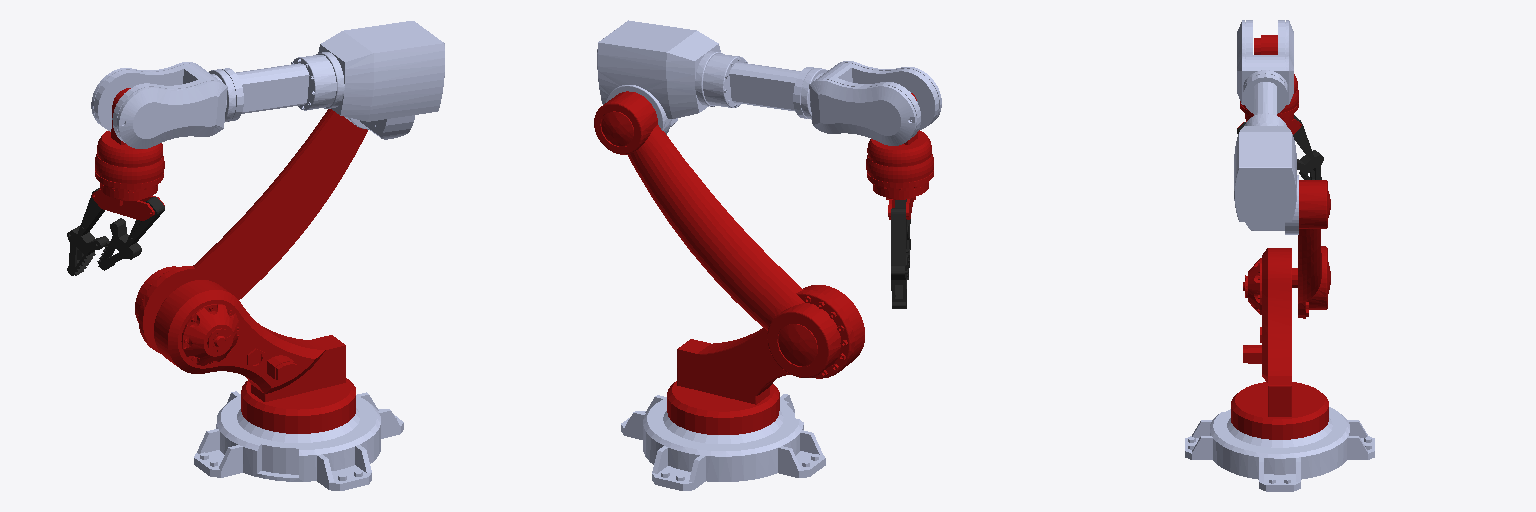
The robot description file, URDF, robot "robotic_arm":
<?xml version="1.0" ?>
<!-- =================================================================================== -->
<!-- |    This document was autogenerated by xacro from [local-path]/ros2_ws/src/robotic_arm/description/urdf/robotic_arm.urdf.xacro | -->
<!-- |    EDITING THIS FILE BY HAND IS NOT RECOMMENDED                                 | -->
<!-- =================================================================================== -->
<!-- This URDF was automatically created by SolidWorks to URDF Exporter! Originally created by [author] ([email redacted]) 
     Commit Version: 1.6.0-4-g7f85cfe  Build Version: 1.6.7995.38578
     For more information, please see http://wiki.ros.org/sw_urdf_exporter -->
<robot name="robotic_arm">

  <link name = "world"/>

  <joint name = "base_joint" type = "fixed">
    <parent link = "world"/>
    <child link = "base_link"/>
    <origin rpy = "0 0 0" xyz = "0.0 0.0 0.0"/>
  </joint>

  <link name="base_link">
    <inertial>
      <origin rpy="0 0 0" xyz="0.073069 0.13264 0.2225"/>
      <mass value="1.5086"/>
      <inertia ixx="0.0043061" ixy="-2.3844E-07" ixz="-7.3077E-05" iyy="0.0080514" iyz="2.3844E-07" izz="0.0043061"/>
    </inertial>
    <visual>
      <origin rpy="0 0 0" xyz="0 0 0"/>
      <geometry>
        <mesh filename="package://robotic_arm/meshes/base_link.STL"/>
      </geometry>
      <material name="">
        <color rgba="0.79216 0.81961 0.93333 1"/>
      </material>
    </visual>
    <collision>
      <origin rpy="0 0 0" xyz="0 0 0"/>
      <geometry>
        <mesh filename="package://robotic_arm/meshes/base_link.STL"/>
      </geometry>
    </collision>
  </link>
  <link name="link_1">
    <inertial>
      <origin rpy="0 0 0" xyz="-0.057487 0.078405 0.0039341"/>
      <mass value="1.3333"/>
      <inertia ixx="0.0050949" ixy="0.0043173" ixz="0.00028916" iyy="0.00711" iyz="-0.00025095" izz="0.010704"/>
    </inertial>
    <visual>
      <origin rpy="0 0 0" xyz="0 0 0"/>
      <geometry>
        <mesh filename="package://robotic_arm/meshes/link_1.STL"/>
      </geometry>
      <material name="">
        <color rgba="0.69412 0.098039 0.098039 1"/>
      </material>
    </visual>
    <collision>
      <origin rpy="0 0 0" xyz="0 0 0"/>
      <geometry>
        <mesh filename="package://robotic_arm/meshes/link_1.STL"/>
      </geometry>
    </collision>
  </link>
  <joint name="joint_1" type="revolute">
    <origin rpy="1.5708 0 0" xyz="0.072332 -0.22324 0.16099"/>
    <parent link="base_link"/>
    <child link="link_1"/>
    <axis xyz="0 1 0"/>
    <limit effort="300" lower="0" upper="3.142" velocity="3"/>
  </joint>
  <link name="link_2">
    <inertial>
      <origin rpy="0 0 0" xyz="-0.14941 0.034282 0.0094769"/>
      <mass value="1.0447"/>
      <inertia ixx="0.00068419" ixy="-1.9061E-05" ixz="0.00023629" iyy="0.019048" iyz="2.1777E-05" izz="0.018654"/>
    </inertial>
    <visual>
      <origin rpy="0 0 0" xyz="0 0 0"/>
      <geometry>
        <mesh filename="package://robotic_arm/meshes/link_2.STL"/>
      </geometry>
      <material name="">
        <color rgba="0.69412 0.098039 0.098039 1"/>
      </material>
    </visual>
    <collision>
      <origin rpy="0 0 0" xyz="0 0 0"/>
      <geometry>
        <mesh filename="package://robotic_arm/meshes/link_2.STL"/>
      </geometry>
    </collision>
  </link>
  <joint name="joint_2" type="revolute">
    <origin rpy="-1.5708 0 -2.4026" xyz="-0.1461 0.15286 -0.0075"/>
    <parent link="link_1"/>
    <child link="link_2"/>
    <axis xyz="0 -1 0"/>
    <limit effort="200" lower="-1.57" upper="1.57" velocity="3"/>
  </joint>
  <link name="link_3">
    <inertial>
      <origin rpy="0 0 0" xyz="0.026725 -0.04057 -0.11374"/>
      <mass value="1.9528"/>
      <inertia ixx="0.010186" ixy="0.00012722" ixz="0.00011585" iyy="0.0098947" iyz="-0.0004026" izz="0.002441"/>
    </inertial>
    <visual>
      <origin rpy="0 0 0" xyz="0 0 0"/>
      <geometry>
        <mesh filename="package://robotic_arm/meshes/link_3.STL"/>
      </geometry>
      <material name="">
        <color rgba="0.79216 0.81961 0.93333 1"/>
      </material>
    </visual>
    <collision>
      <origin rpy="0 0 0" xyz="0 0 0"/>
      <geometry>
        <mesh filename="package://robotic_arm/meshes/link_3.STL"/>
      </geometry>
    </collision>
  </link>
  <joint name="joint_3" type="revolute">
    <origin rpy="0.7381 0 -1.5708" xyz="-0.35 0 0"/>
    <parent link="link_2"/>
    <child link="link_3"/>
    <axis xyz="-1 0 0"/>
    <limit effort="200" lower="0" upper="3.142" velocity="3"/>
  </joint>
  <link name="link_4">
    <inertial>
      <origin rpy="0 0 0" xyz="0.020252 0.0098033 0.066456"/>
      <mass value="0.41784"/>
      <inertia ixx="0.00044426" ixy="3.2023E-07" ixz="-1.7104E-19" iyy="0.00044991" iyz="2.2175E-19" izz="0.00028178"/>
    </inertial>
    <visual>
      <origin rpy="0 0 0" xyz="0 0 0"/>
      <geometry>
        <mesh filename="package://robotic_arm/meshes/link_4.STL"/>
      </geometry>
      <material name="">
        <color rgba="0.69412 0.098039 0.098039 1"/>
      </material>
    </visual>
    <collision>
      <origin rpy="0 0 0" xyz="0 0 0"/>
      <geometry>
        <mesh filename="package://robotic_arm/meshes/link_4.STL"/>
      </geometry>
    </collision>
  </link>
  <joint name="joint_4" type="revolute">
    <origin rpy="-1.5026 -0.44991 -0.029688" xyz="0 -0.045 -0.361"/>
    <parent link="link_3"/>
    <child link="link_4"/>
    <axis xyz="-0.90009 -0.4357 0"/>
    <limit effort="200" lower="0" upper="3.142" velocity="3"/>
  </joint>
  <link name="gripper_1">
    <inertial>
      <origin rpy="0 0 0" xyz="0.015716 -0.0097903 0.051506"/>
      <mass value="0.037969"/>
      <inertia ixx="4.3999E-05" ixy="-1.9125E-09" ixz="-9.3039E-06" iyy="4.8118E-05" iyz="-6.1689E-09" izz="6.21E-06"/>
    </inertial>
    <visual>
      <origin rpy="0 0 0" xyz="0 0 0"/>
      <geometry>
        <mesh filename="package://robotic_arm/meshes/gripper_1.STL"/>
      </geometry>
      <material name="">
        <color rgba="0.2 0.2 0.2 1"/>
      </material>
    </visual>
    <collision>
      <origin rpy="0 0 0" xyz="0 0 0"/>
      <geometry>
        <mesh filename="package://robotic_arm/meshes/gripper_1.STL"/>
      </geometry>
    </collision>
  </link>
  <joint name="joint_5" type="revolute">
    <origin rpy="0 0.40032 -3.1416" xyz="0.061613 0 0.12535"/>
    <parent link="link_4"/>
    <child link="gripper_1"/>
    <axis xyz="0 1 0"/>
    <limit effort="200" lower="-0.785" upper="0.785" velocity="3"/>
  </joint>
  <link name="gripper_2">
    <inertial>
      <origin rpy="0 0 0" xyz="0.015716 0.0098163 0.051506"/>
      <mass value="0.037969"/>
      <inertia ixx="4.3999E-05" ixy="-1.9125E-09" ixz="-9.3039E-06" iyy="4.8118E-05" iyz="-6.1689E-09" izz="6.21E-06"/>
    </inertial>
    <visual>
      <origin rpy="0 0 0" xyz="0 0 0"/>
      <geometry>
        <mesh filename="package://robotic_arm/meshes/gripper_2.STL"/>
      </geometry>
      <material name="">
        <color rgba="0.2 0.2 0.2 1"/>
      </material>
    </visual>
    <collision>
      <origin rpy="0 0 0" xyz="0 0 0"/>
      <geometry>
        <mesh filename="package://robotic_arm/meshes/gripper_2.STL"/>
      </geometry>
    </collision>
  </link>
  <joint name="joint_6" type="revolute">
    <origin rpy="0 -0.55041 0" xyz="-0.021108 0 0.12535"/>
    <parent link="link_4"/>
    <child link="gripper_2"/>
    <axis xyz="0 -1 0"/>
    <limit effort="200" lower="-0.785" upper="0.785" velocity="3"/>
  </joint>
</robot>

--- Render facts (derived) ---
The picture shows the robot from 3 angles, left to right: view 1: azimuth 30°, elevation 25°; view 2: azimuth 150°, elevation 25°; view 3: azimuth 270°, elevation 25°; orthographic projection.
Model robotic_arm with 8 links and 7 joints (6 revolute, 1 fixed), rooted at world, posed every joint at zero.
Links seen in each view (by area): view 1: link_3, link_1, link_2, base_link, link_4, gripper_1, gripper_2; view 2: link_3, link_2, link_1, base_link, link_4, gripper_2; view 3: link_3, link_1, base_link, link_2, link_4, gripper_2.
Boxes of the visible links, x1,y1,x2,y2 form: link_3: (91,21,444,148); link_1: (154,280,355,433); link_2: (135,109,367,353); base_link: (194,391,403,490); link_4: (92,88,164,220); gripper_1: (97,197,164,270); gripper_2: (67,188,108,275); link_3: (597,20,941,145); link_2: (594,91,854,378); link_1: (667,285,864,434); base_link: (621,394,825,490); link_4: (866,93,933,219); gripper_2: (891,208,909,308); link_3: (1234,20,1298,234); link_1: (1231,248,1328,439); base_link: (1185,407,1374,491); link_2: (1292,180,1330,318); link_4: (1237,35,1301,134); gripper_2: (1293,115,1323,179).
Size in the robot's own frame: 0.465 by 0.2708 by 0.5572 metres.
7 mesh visuals loaded from 7 distinct referenced files (7 binary STL).